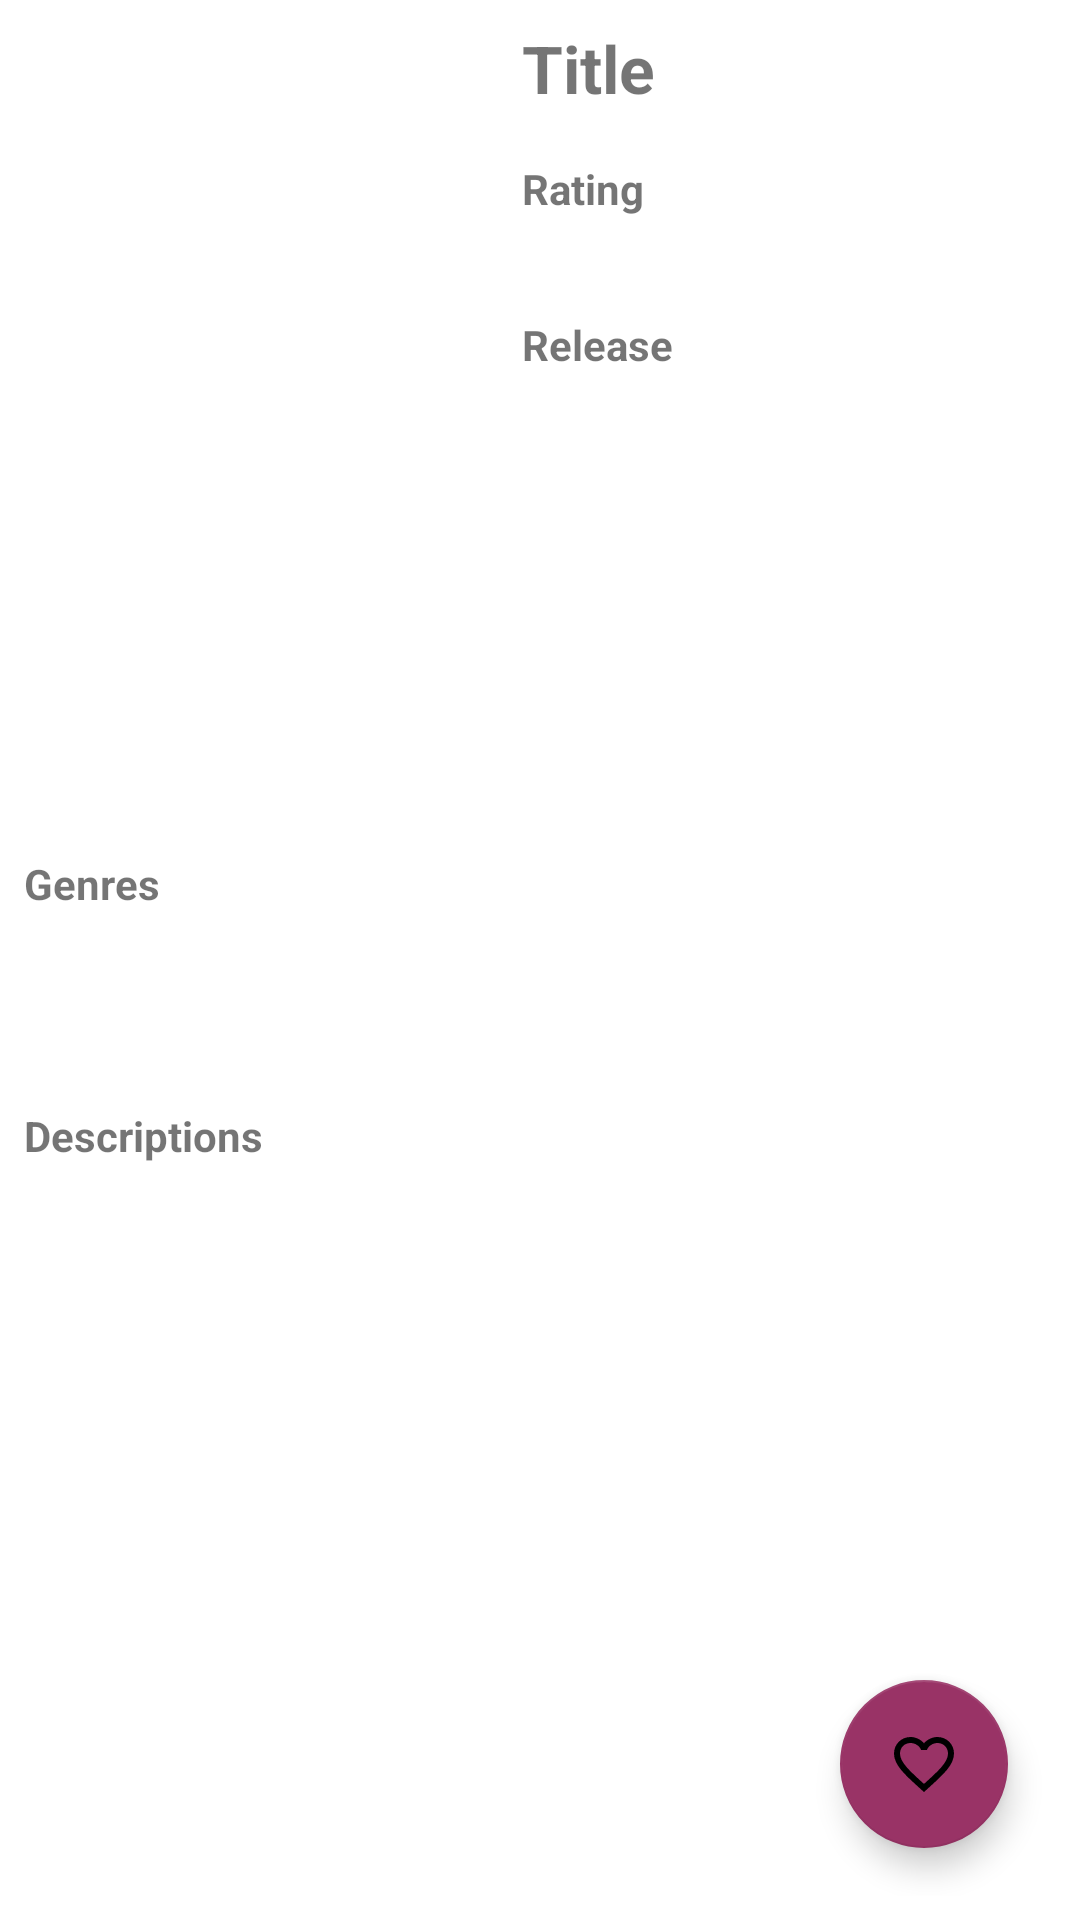

Screen size 1080×1920. Icon name, then its center in pixels as [x,y]:
Favorite: [924,1764]
